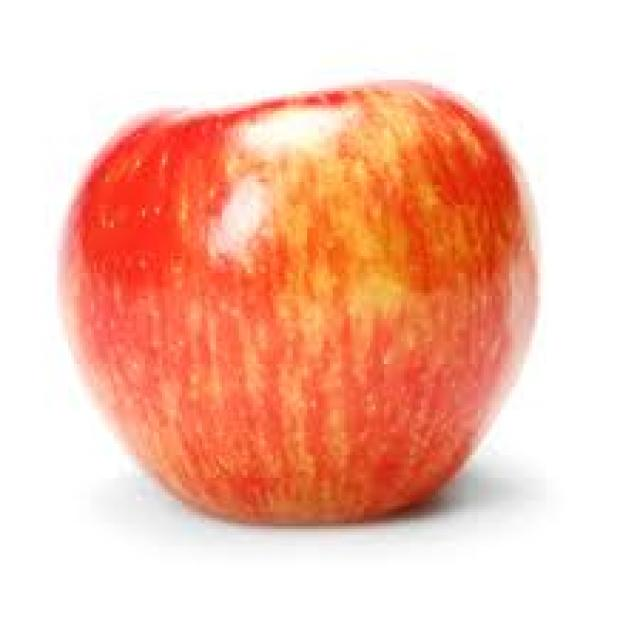Apple: (51, 77, 557, 529)
